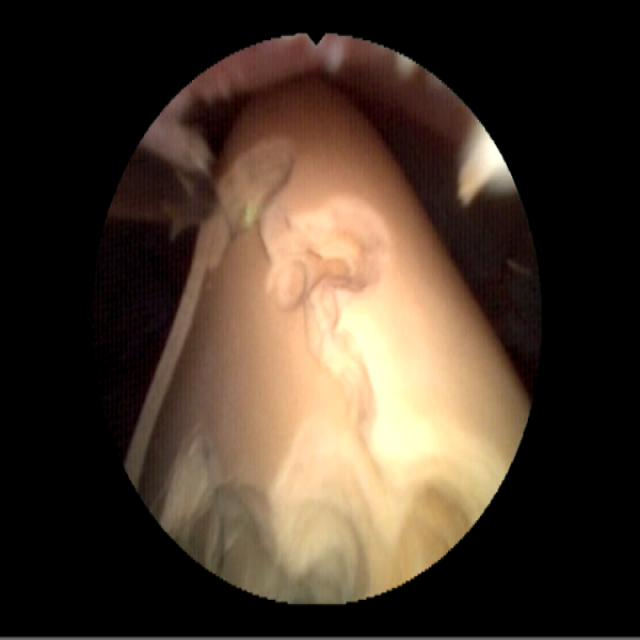stone: (128, 77, 522, 598)
